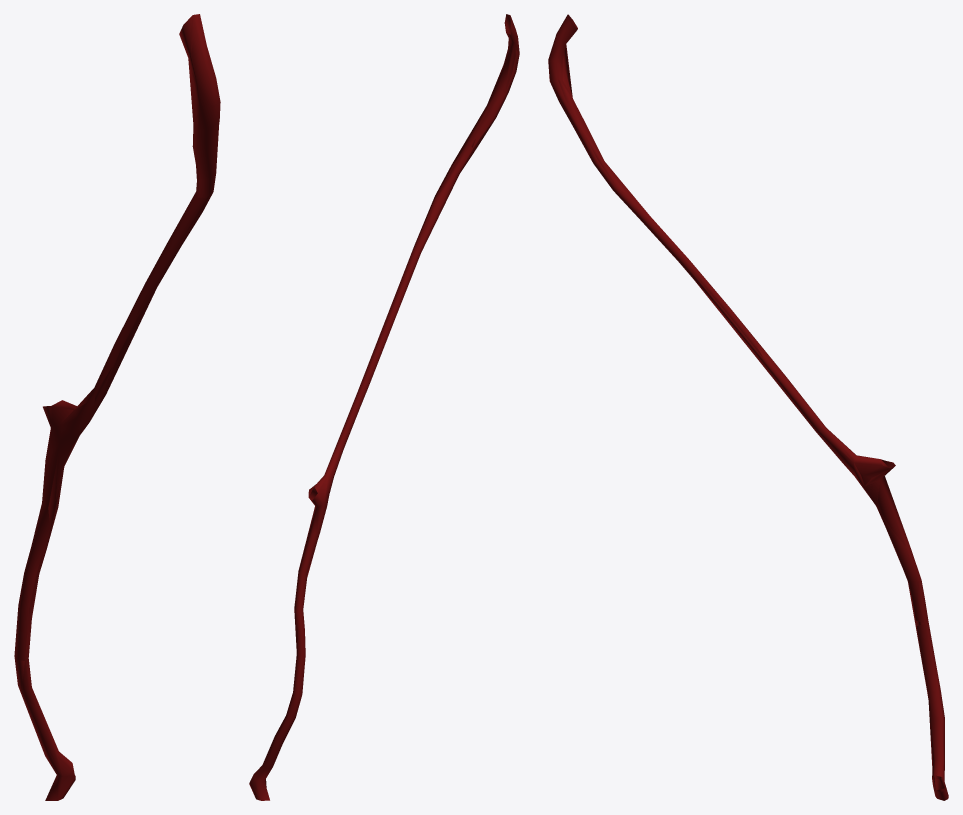
Rendered from L ramus palmaris arteria medianae.fbx.
3 renders of one model, left to right at view 1: azimuth 30°, elevation 25°; view 2: azimuth 150°, elevation 25°; view 3: azimuth 270°, elevation 25°, orthographic. The views are drawn at different scales.
Parts seen in each view (by area): view 1: L ramus palmaris arteria medianae, L ramus palmaris arteria medianae low; view 2: L ramus palmaris arteria medianae, L ramus palmaris arteria medianae low; view 3: L ramus palmaris arteria medianae, L ramus palmaris arteria medianae low.
Part boxes in pixels (bbox=[...]): L ramus palmaris arteria medianae: bbox=[14, 14, 220, 800]; L ramus palmaris arteria medianae low: bbox=[18, 14, 219, 800]; L ramus palmaris arteria medianae: bbox=[249, 14, 519, 800]; L ramus palmaris arteria medianae low: bbox=[250, 14, 519, 799]; L ramus palmaris arteria medianae: bbox=[548, 14, 948, 800]; L ramus palmaris arteria medianae low: bbox=[549, 14, 947, 793].
Size of the model in its own units: 2.79 by 18.96 by 9.27.
